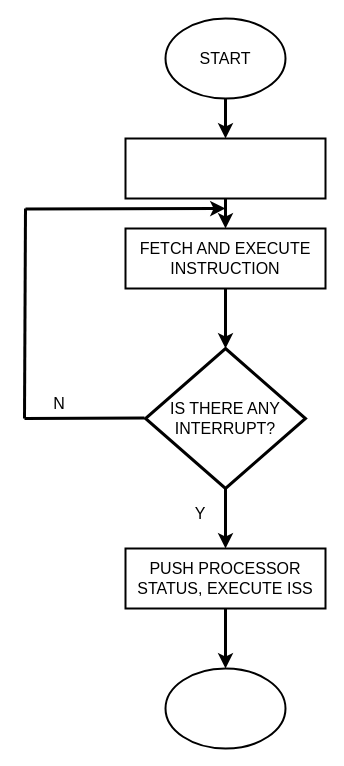
Image size: 344x766. Some labels were removed from this diagram. The shapes that lost their labels are listed below. From the top down, each one's centre as x and y in pixels, then its label:
At point 225,168: "SEND GET READY SIGNAL".
At point 225,708: "END".
